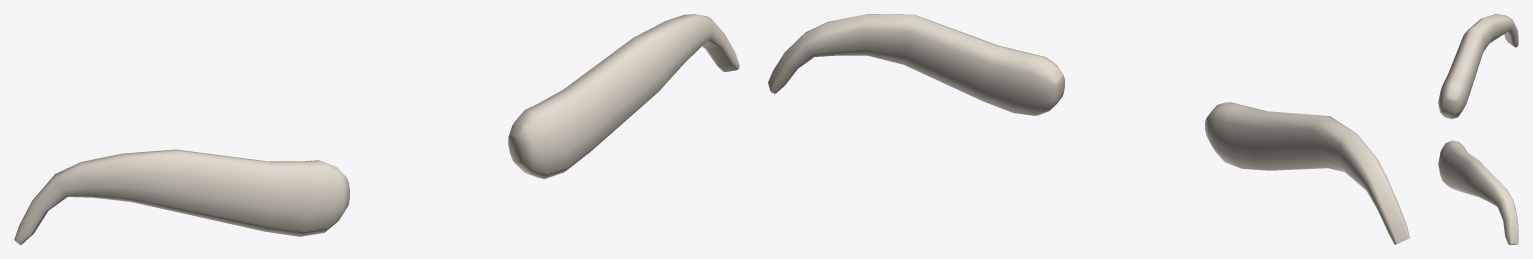
Rendered from Eyebrows_20_07.fbx.
3 views of the same model, side by side, from view 1: azimuth 30°, elevation 25°; view 2: azimuth 150°, elevation 25°; view 3: azimuth 270°, elevation 25° (orthographic). The views are drawn at different scales.
Visible parts, largest first — view 1: Eyebrows_20_07; view 2: Eyebrows_20_07; view 3: Eyebrows_20_07.
Part boxes in pixels (left/top/right/bottom): Eyebrows_20_07: left=14, top=14, right=739, bottom=244; Eyebrows_20_07: left=768, top=14, right=1409, bottom=244; Eyebrows_20_07: left=1438, top=14, right=1518, bottom=244.
Bounding box in the file's own units: 19.57 × 2.5 × 3.27.
